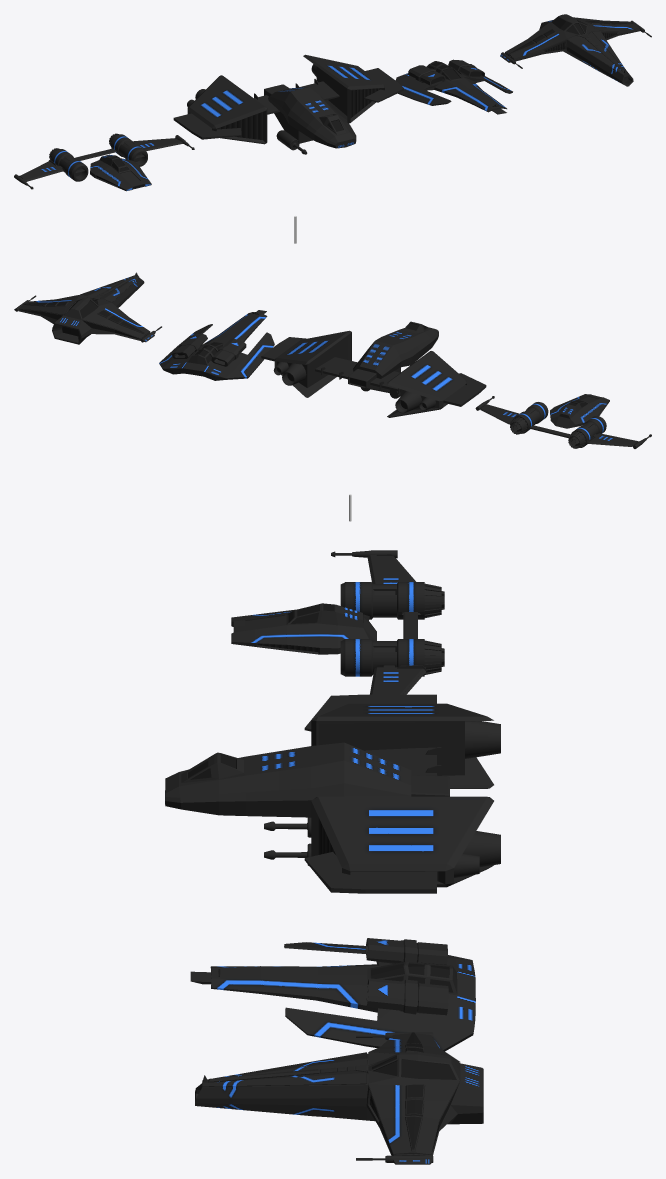
Rendered from Spaceships_Collection.fbx.
3 renders of one model, top to bottom at view 1: azimuth 30°, elevation 25°; view 2: azimuth 150°, elevation 25°; view 3: azimuth 270°, elevation 25°, orthographic. The views are drawn at different scales.
Parts seen in each view (by area): view 1: Engines, Body, Body.002, FrontBody, Wing, Body.001, Turbine, Wings, BackBody; view 2: Engines, Body, Body.002, FrontBody, Wing, Body.001, Turbine, ExhaustIn, Wings, BackBody; view 3: Engines, Body, Body.002, FrontBody, Turbine, Wing, Body.001, Wings, ExhaustIn.
Boxes of the visible parts, x1,y1,x2,y2 form: Engines: (187,54,384,144); Body: (505,14,639,86); Body.002: (395,59,512,114); FrontBody: (268,87,356,148); Wing: (173,68,403,139); Body.001: (90,154,151,191); Turbine: (49,133,147,181); Wings: (20,138,182,181); BackBody: (264,84,312,143); Engines: (274,330,466,417); Body: (19,272,150,344); Body.002: (159,310,274,380); FrontBody: (353,321,438,378); Wing: (261,337,486,406); Body.001: (550,394,609,428); Turbine: (510,402,606,448); ExhaustIn: (282,363,421,413); Wings: (480,404,638,446); BackBody: (348,367,400,392); Engines: (311,703,493,887); Body: (195,1032,483,1155); Body.002: (190,938,475,1051); FrontBody: (165,742,411,817); Turbine: (340,582,441,676); Wing: (304,694,436,893); Body.001: (231,603,376,654); Wings: (367,555,425,694); ExhaustIn: (463,721,500,867).
Size of the model in its own units: 4928 by 1166 by 1285.
